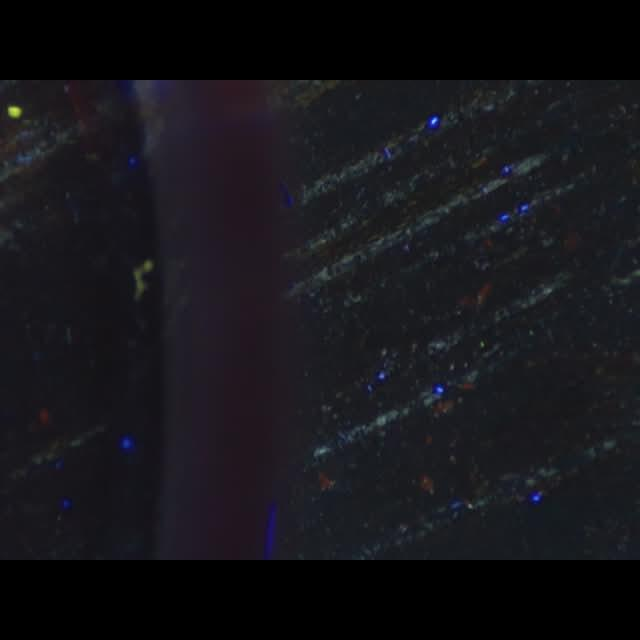Fibre: (132, 258, 154, 300)
microbeads: (8, 104, 22, 120)
